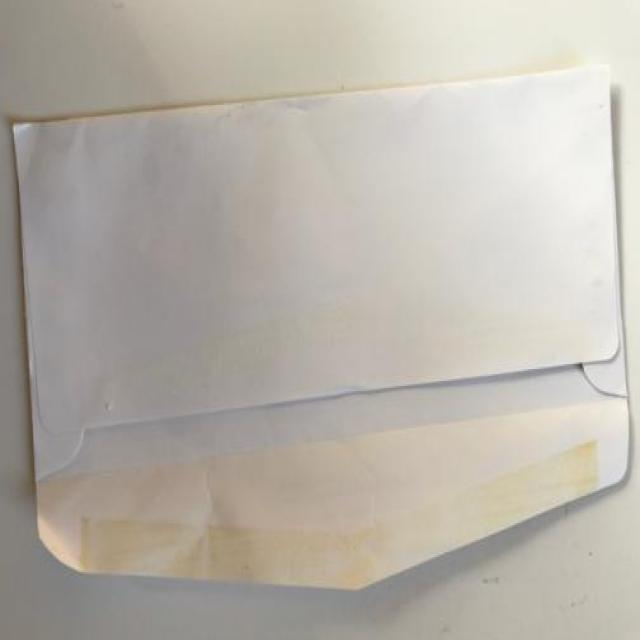kertas: (6, 63, 633, 592)
